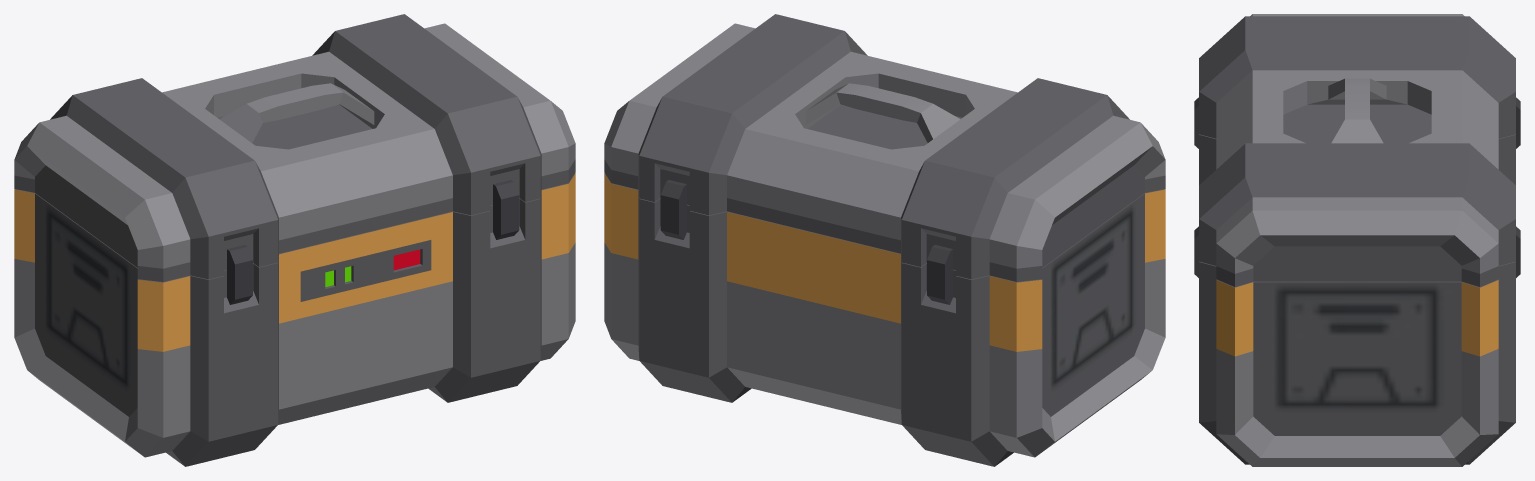
Rendered from worlds_SM_Prop_Crate_04.gltf.
The picture shows the model from 3 angles, left to right: view 1: azimuth 30°, elevation 25°; view 2: azimuth 150°, elevation 25°; view 3: azimuth 270°, elevation 25°; orthographic projection.
Parts seen in each view (by area): view 1: SM_Prop_Crate_04; view 2: SM_Prop_Crate_04; view 3: SM_Prop_Crate_04.
Boxes of the visible parts, x1,y1,x2,y2 form: SM_Prop_Crate_04: (14,14,575,466); SM_Prop_Crate_04: (604,14,1165,466); SM_Prop_Crate_04: (1194,14,1520,466).
Size of the model in its own units: 1.84 by 1.16 by 1.2.
Materials: 1 (1 with a texture image).
